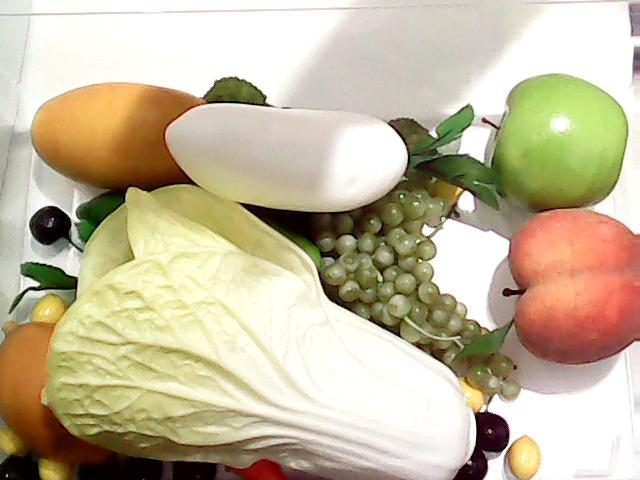apple: (482, 70, 630, 216)
carrot: (230, 450, 286, 478)
grape: (318, 183, 498, 385)
lemon: (0, 319, 120, 455)
mango: (26, 78, 266, 190)
napa cabbage: (31, 191, 485, 480)
peach: (500, 206, 640, 366)
pepper: (72, 180, 324, 316)
radish: (162, 102, 506, 213)
